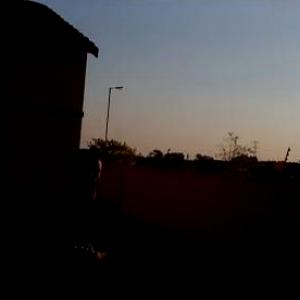follow: (32, 144, 121, 299)
